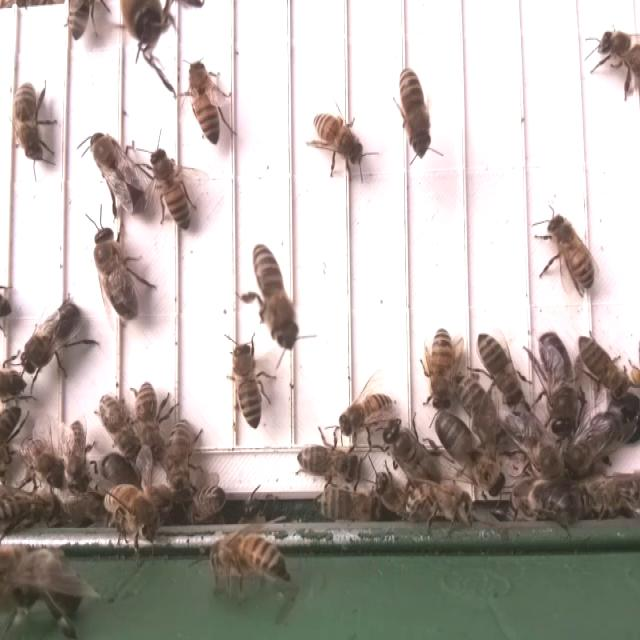Drone: (523, 326, 586, 444), (432, 415, 512, 505), (25, 290, 96, 386), (77, 126, 147, 223), (567, 393, 640, 484), (89, 222, 149, 326), (383, 416, 448, 492)
Worker: (240, 240, 316, 355), (528, 206, 614, 304), (199, 532, 304, 603), (8, 77, 74, 173), (474, 325, 538, 418), (184, 54, 242, 149), (452, 371, 517, 452), (389, 65, 444, 160), (94, 476, 162, 551), (148, 145, 203, 236), (314, 108, 378, 186), (56, 410, 100, 506), (293, 437, 368, 491), (335, 383, 394, 451), (420, 320, 460, 418), (226, 338, 268, 425), (513, 470, 575, 526), (164, 413, 201, 506), (132, 375, 172, 461), (319, 482, 384, 528), (99, 393, 142, 458), (29, 436, 70, 498)
